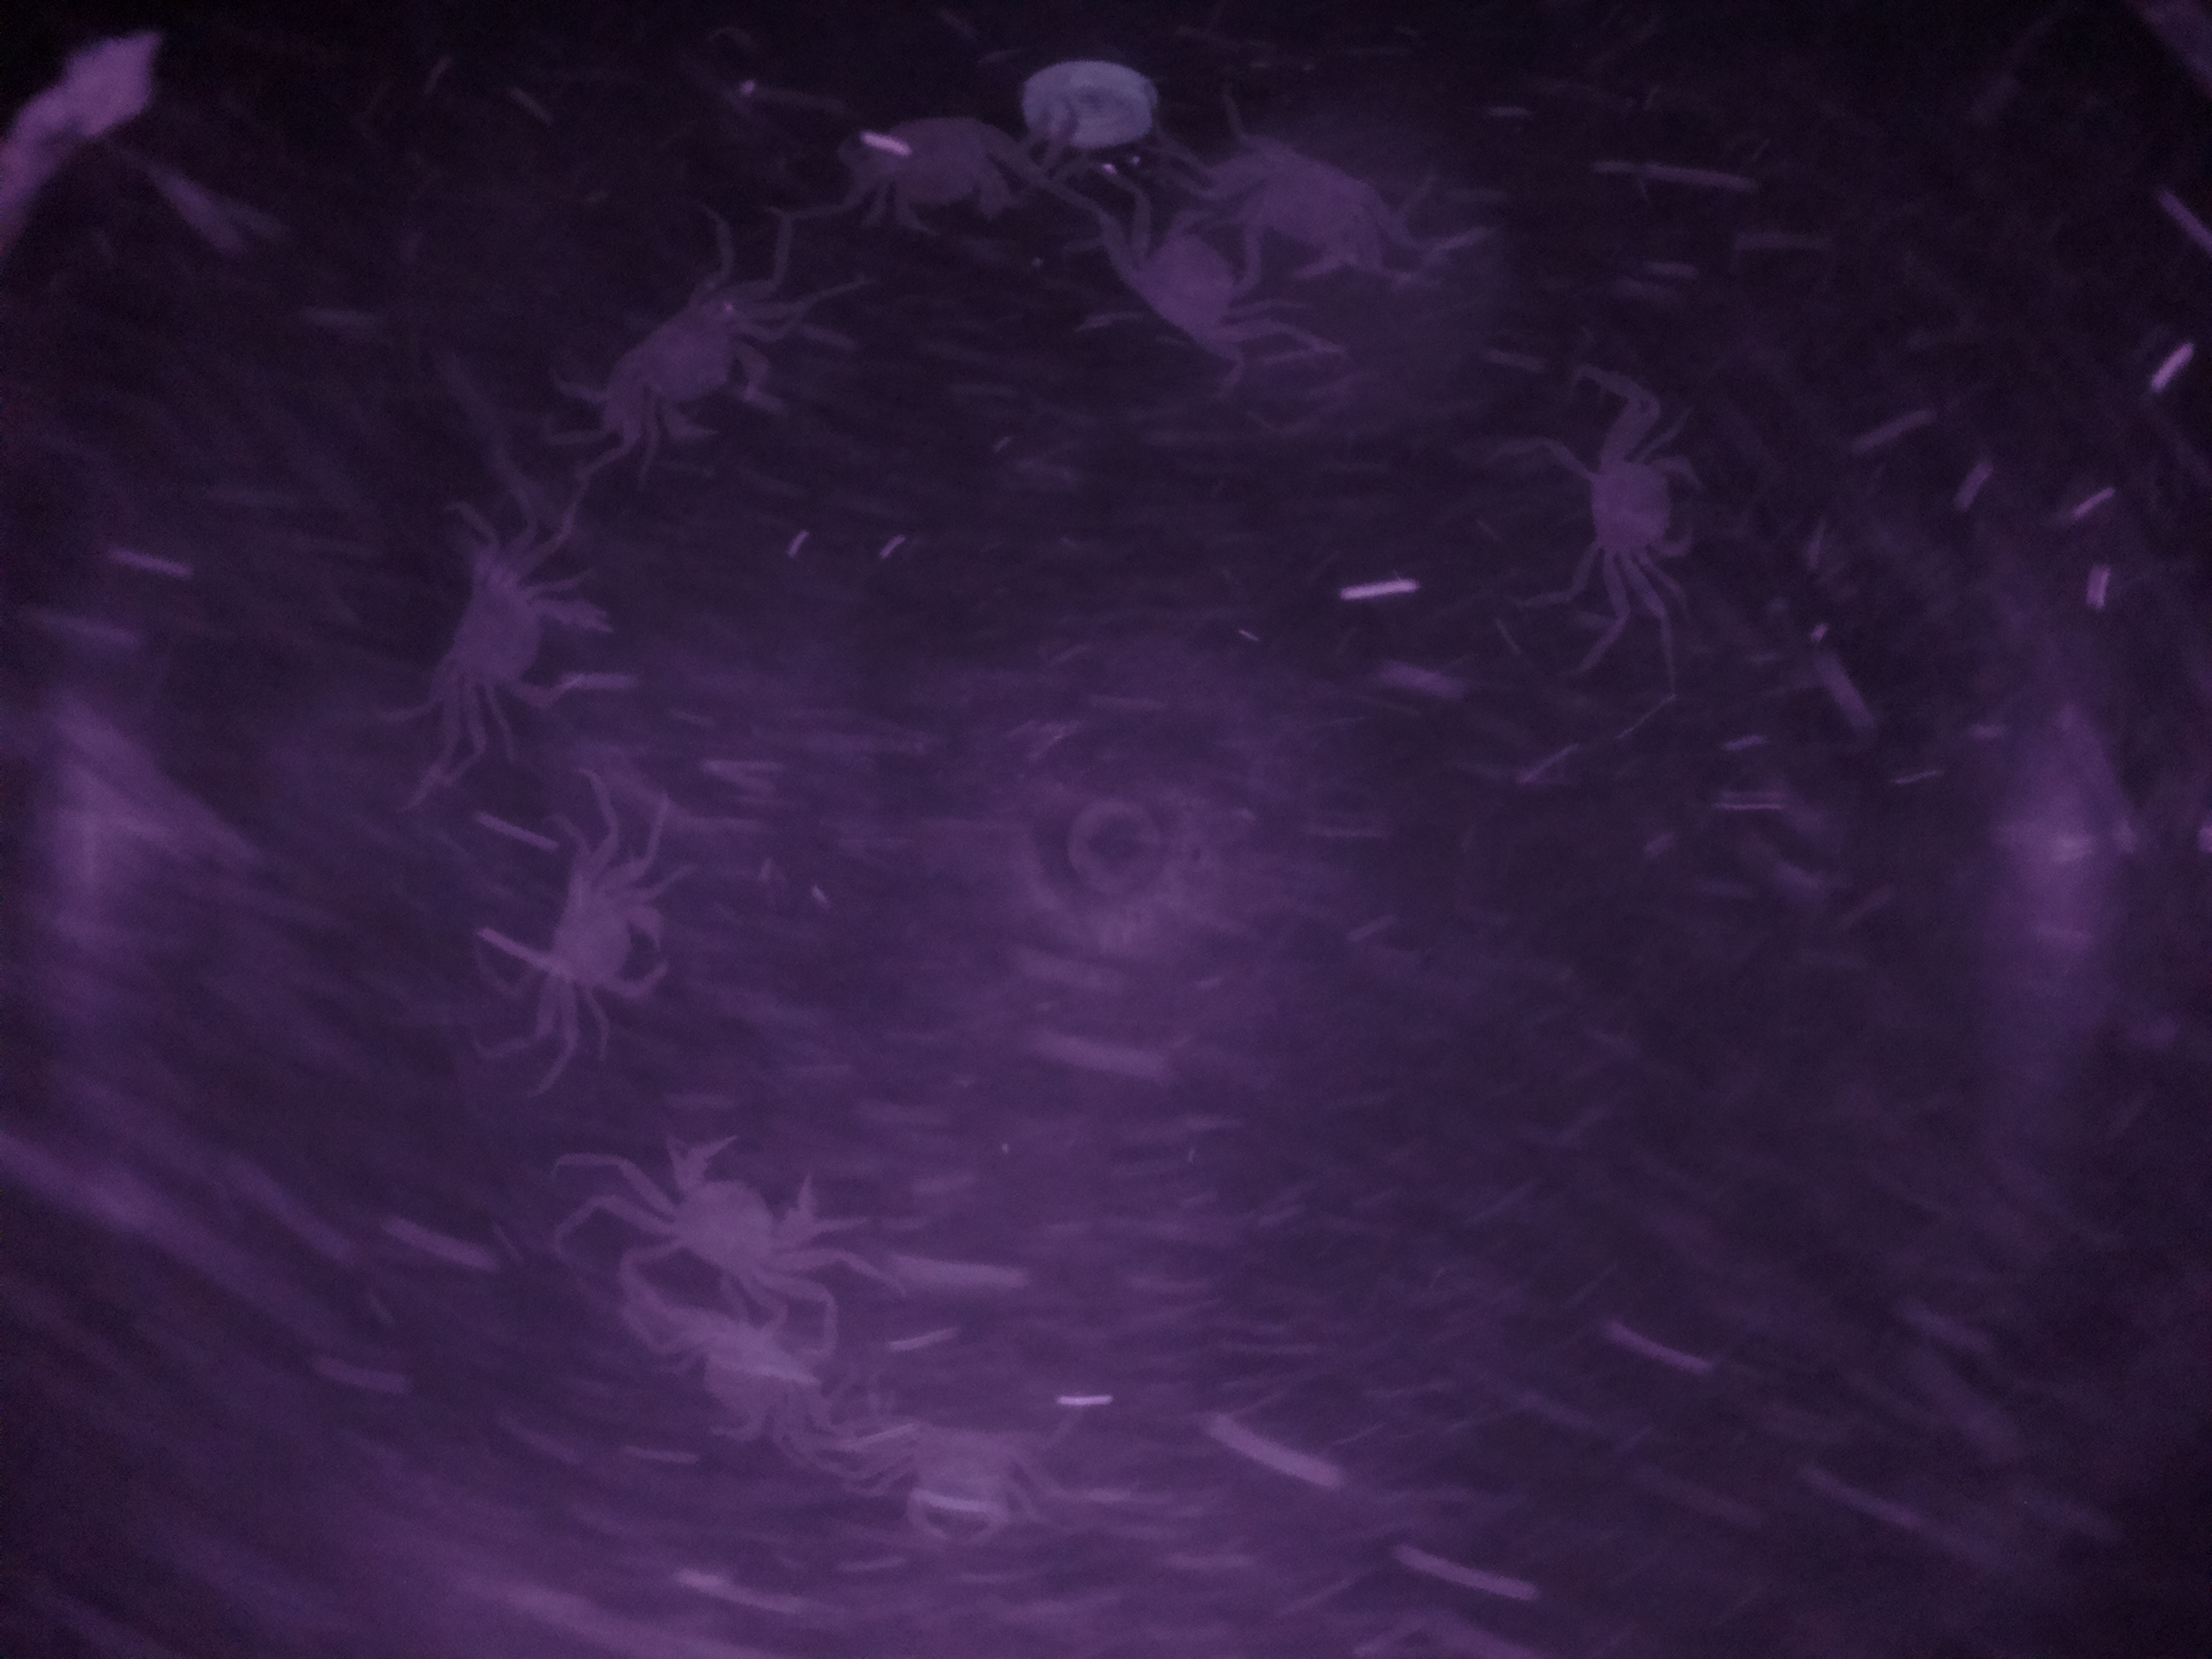Crab: (632, 1098, 843, 1330), (577, 263, 806, 465), (496, 842, 698, 1046), (421, 537, 613, 741), (1559, 385, 1716, 619), (1089, 188, 1263, 368), (843, 101, 1057, 246)
